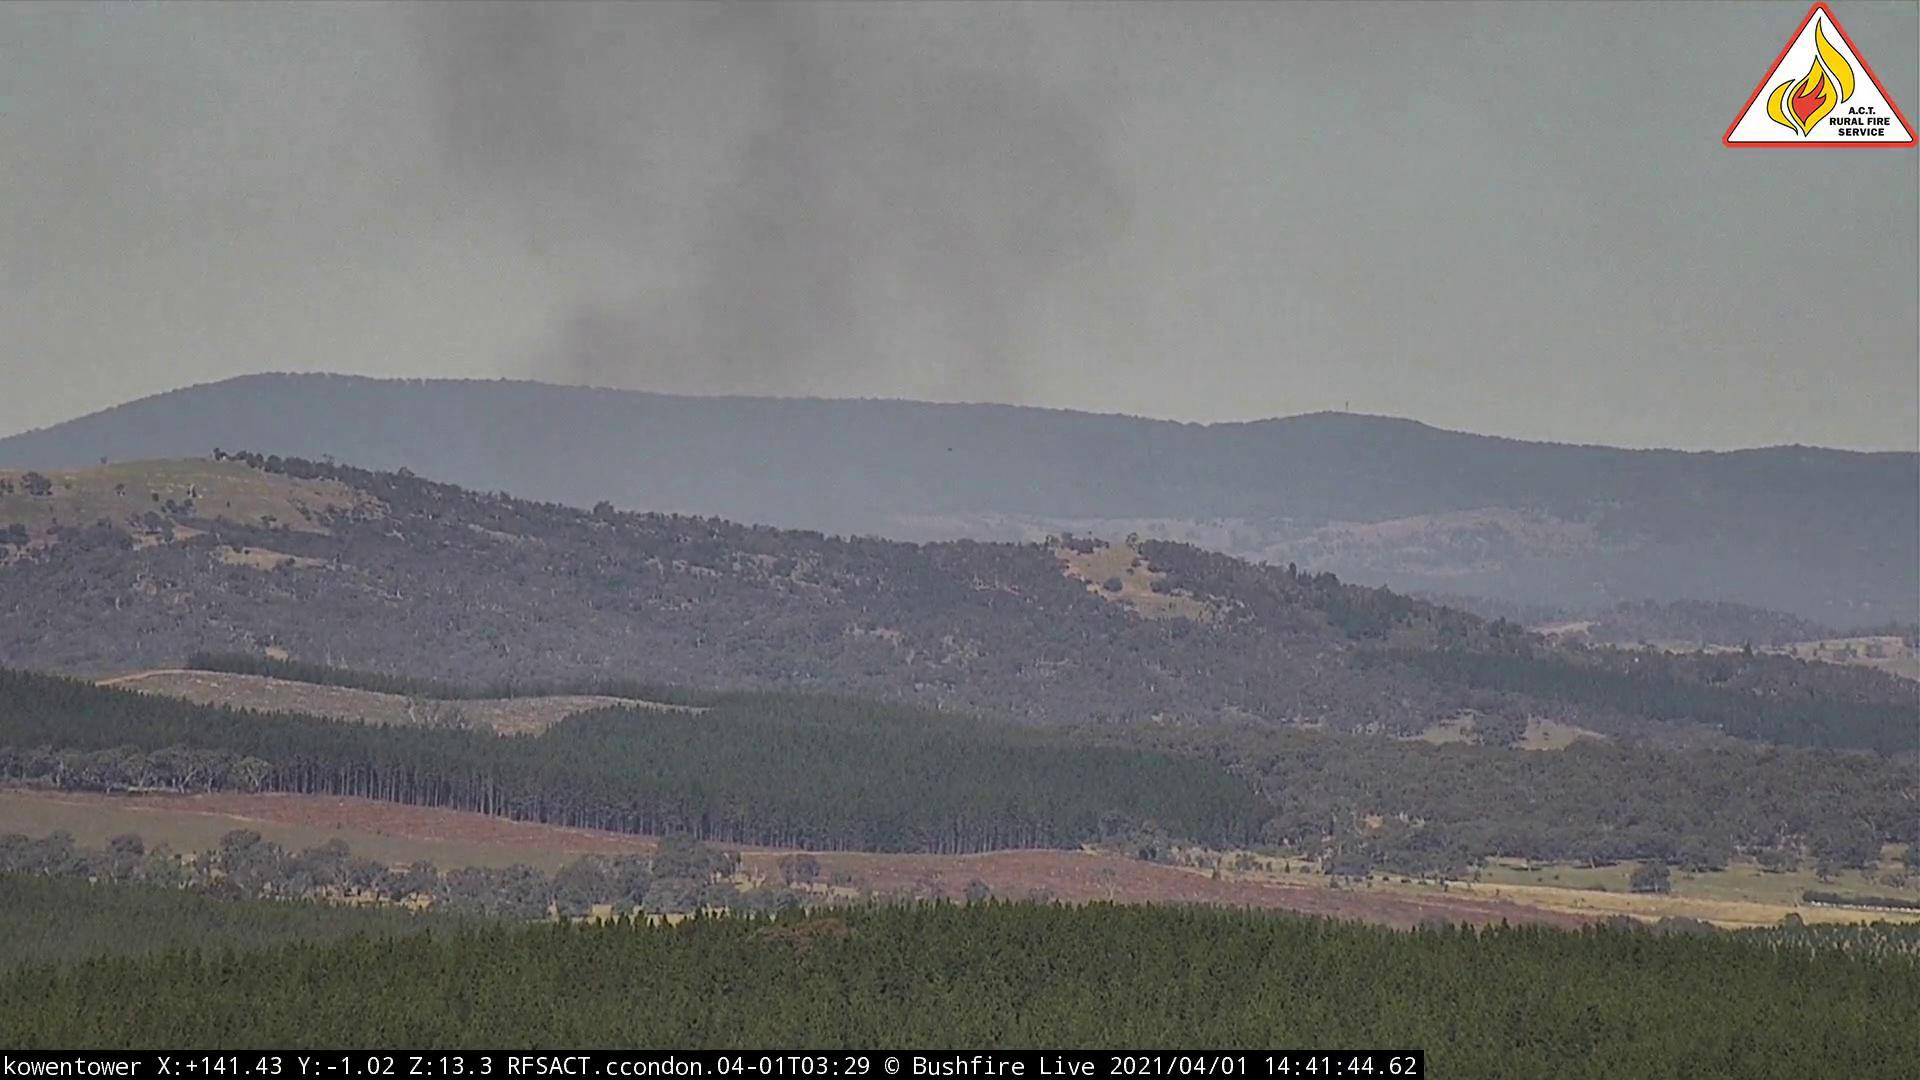Smoke: (384, 3, 1138, 516)
